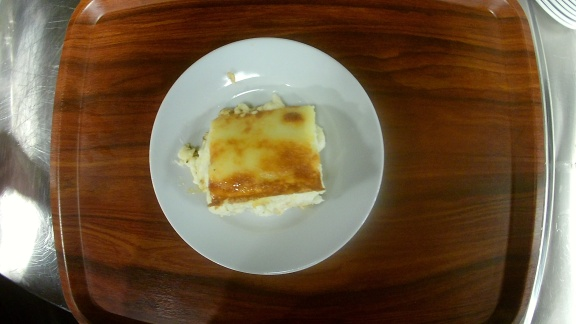firinmakarna: (145, 33, 387, 276)
